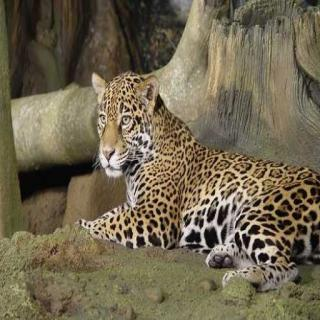-: (67, 57, 320, 297)
